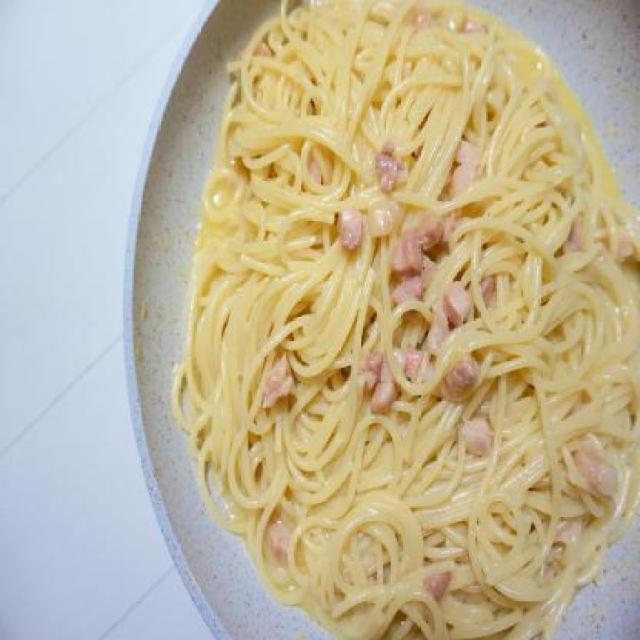Pasta with carbonara sauce: (180, 9, 638, 600)
